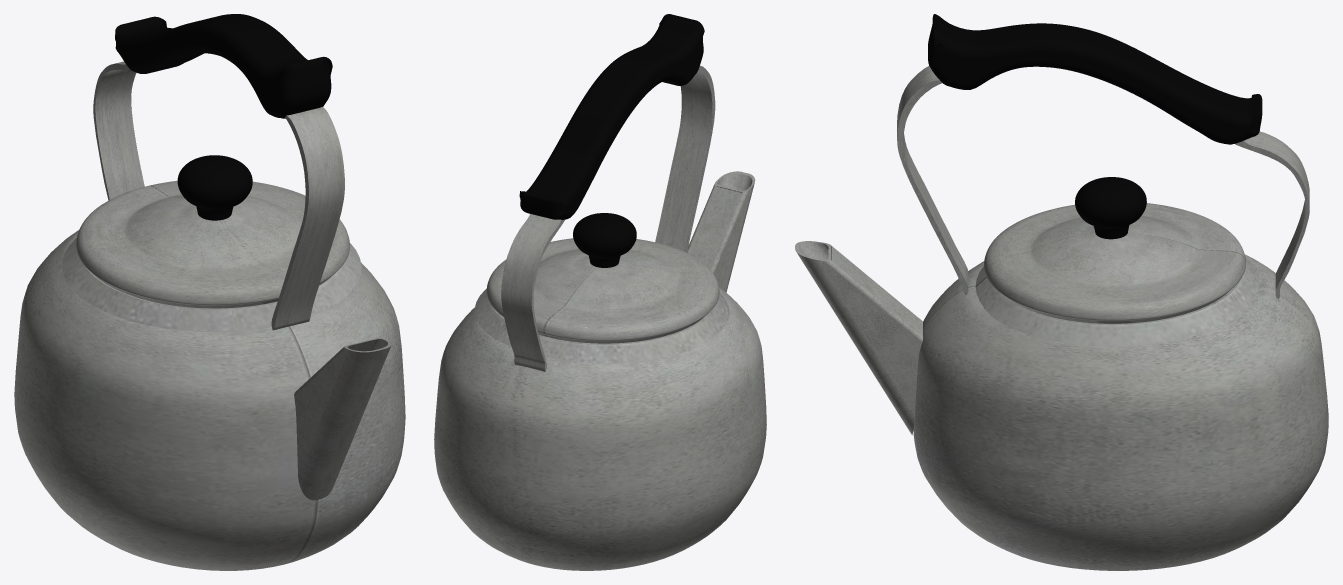
File: pava.obj
3 renders of one model, left to right at view 1: azimuth 30°, elevation 25°; view 2: azimuth 150°, elevation 25°; view 3: azimuth 270°, elevation 25°, orthographic. The views are drawn at different scales.
Visible parts, largest first — view 1: object_6, object_2, object_7, object_1, object_4, object_3, object_5, object_8; view 2: object_6, object_2, object_7, object_4, object_3, object_5, object_1, object_8; view 3: object_6, object_2, object_7, object_1, object_3, object_8, object_4, object_5.
Part boxes in pixels (bbox=[...]): object_6: bbox=[14, 230, 405, 570]; object_2: bbox=[76, 180, 349, 308]; object_7: bbox=[115, 14, 332, 118]; object_1: bbox=[294, 338, 391, 500]; object_4: bbox=[271, 106, 344, 330]; object_3: bbox=[62, 238, 361, 331]; object_5: bbox=[93, 61, 144, 200]; object_8: bbox=[177, 155, 252, 220]; object_6: bbox=[434, 287, 766, 570]; object_2: bbox=[486, 238, 719, 343]; object_7: bbox=[519, 14, 704, 219]; object_4: bbox=[655, 65, 715, 252]; object_3: bbox=[474, 289, 729, 363]; object_5: bbox=[501, 214, 564, 372]; object_1: bbox=[687, 171, 755, 292]; object_8: bbox=[573, 213, 636, 267]; object_6: bbox=[913, 254, 1328, 570]; object_2: bbox=[984, 203, 1245, 323]; object_7: bbox=[928, 14, 1262, 144]; object_1: bbox=[795, 241, 922, 434]; object_3: bbox=[975, 257, 1259, 346]; object_8: bbox=[1075, 177, 1146, 239]; object_4: bbox=[897, 66, 968, 295]; object_5: bbox=[1235, 131, 1309, 298].
Size of the model in its own units: 16.25 by 25.39 by 24.13.
Materials: 3 (1 with a texture image).
